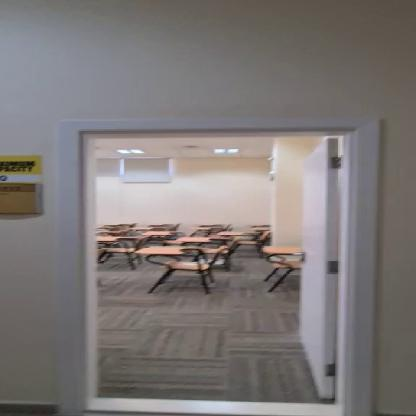open: (52, 103, 374, 416)
